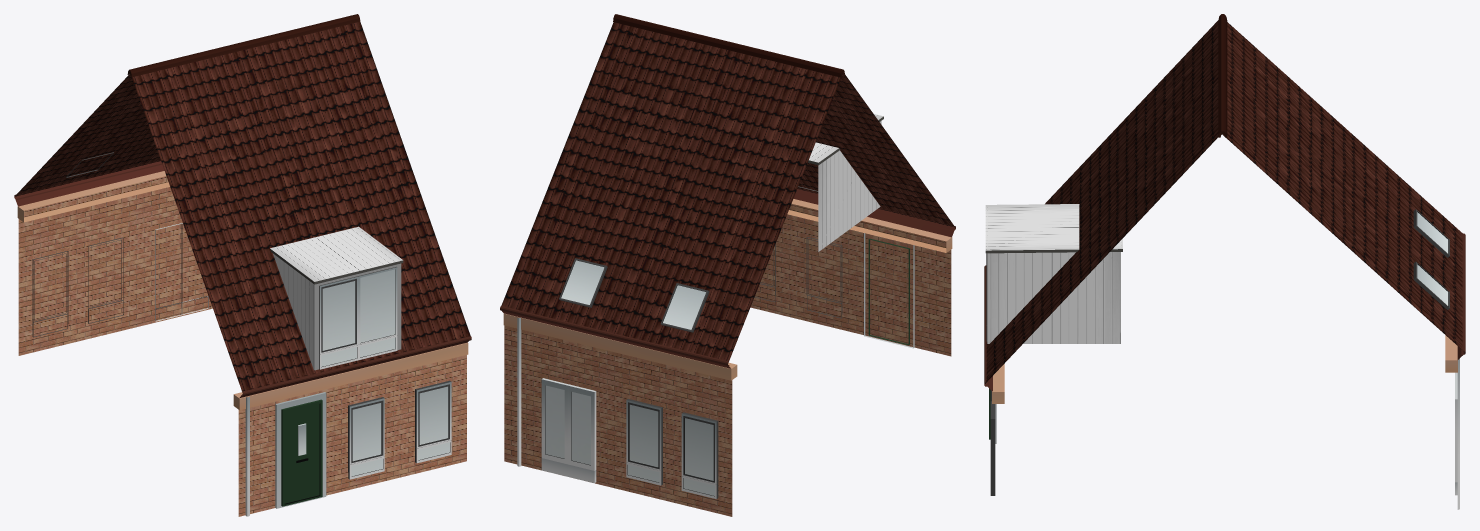
Rendered from It_Dwershus_9_21.fbx.
The picture shows the model from 3 angles, left to right: view 1: azimuth 30°, elevation 25°; view 2: azimuth 150°, elevation 25°; view 3: azimuth 270°, elevation 25°; orthographic projection. The views are drawn at different scales.
Visible parts, largest first — view 1: It_Dwershus_9_21; view 2: It_Dwershus_9_21; view 3: It_Dwershus_9_21.
Boxes of the visible parts, bbox=[...] form: It_Dwershus_9_21: bbox=[14, 14, 471, 516]; It_Dwershus_9_21: bbox=[500, 14, 955, 516]; It_Dwershus_9_21: bbox=[984, 14, 1465, 509].
Bounding box in the file's own units: 596 × 915 × 1034.
